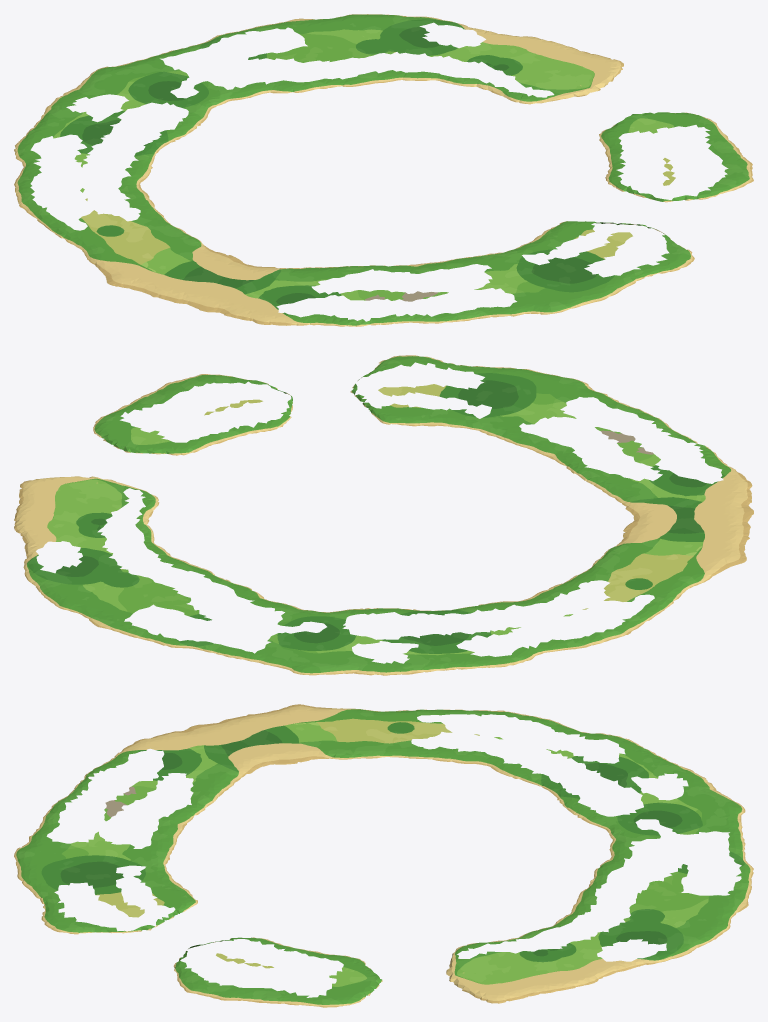
Rendered from Isl-atoll3-Ground.fbx.
The picture shows the model from 3 angles, top to bottom: view 1: azimuth 30°, elevation 25°; view 2: azimuth 150°, elevation 25°; view 3: azimuth 270°, elevation 25°; orthographic projection.
Visible parts, largest first — view 1: Isl-atoll3-Ground-c11, Isl-atoll3-Ground-c22, Isl-atoll3-Ground-c12, Isl-atoll3-Ground-c21, Isl-atoll3-Ground-c20, Isl-atoll3-Ground-c01, Isl-atoll3-Ground-c13, Isl-atoll3-Ground-c10, Isl-atoll3-Ground-c31, Isl-atoll3-Ground-c23, Isl-atoll3-Ground-c02, Isl-atoll3-Ground-c32; view 2: Isl-atoll3-Ground-c11, Isl-atoll3-Ground-c22, Isl-atoll3-Ground-c12, Isl-atoll3-Ground-c21, Isl-atoll3-Ground-c13, Isl-atoll3-Ground-c01, Isl-atoll3-Ground-c23, Isl-atoll3-Ground-c20, Isl-atoll3-Ground-c31, Isl-atoll3-Ground-c02, Isl-atoll3-Ground-c10, Isl-atoll3-Ground-c32; view 3: Isl-atoll3-Ground-c11, Isl-atoll3-Ground-c22, Isl-atoll3-Ground-c12, Isl-atoll3-Ground-c21, Isl-atoll3-Ground-c20, Isl-atoll3-Ground-c31, Isl-atoll3-Ground-c23, Isl-atoll3-Ground-c01, Isl-atoll3-Ground-c13, Isl-atoll3-Ground-c32, Isl-atoll3-Ground-c10, Isl-atoll3-Ground-c02.
Part boxes in pixels (x1,y1,x2,y2): Isl-atoll3-Ground-c11: (109,224,523,326); Isl-atoll3-Ground-c22: (248,16,605,104); Isl-atoll3-Ground-c12: (14,72,262,236); Isl-atoll3-Ground-c21: (484,114,740,283); Isl-atoll3-Ground-c20: (524,246,694,311); Isl-atoll3-Ground-c01: (77,237,213,312); Isl-atoll3-Ground-c13: (47,45,202,106); Isl-atoll3-Ground-c10: (361,283,561,326); Isl-atoll3-Ground-c31: (642,112,753,187); Isl-atoll3-Ground-c23: (197,14,416,48); Isl-atoll3-Ground-c02: (14,171,113,246); Isl-atoll3-Ground-c32: (535,37,623,87); Isl-atoll3-Ground-c11: (496,403,752,581); Isl-atoll3-Ground-c22: (14,476,268,620); Isl-atoll3-Ground-c12: (260,567,650,674); Isl-atoll3-Ground-c21: (122,365,535,455); Isl-atoll3-Ground-c13: (202,636,409,675); Isl-atoll3-Ground-c01: (651,508,753,591); Isl-atoll3-Ground-c23: (30,581,210,650); Isl-atoll3-Ground-c20: (377,355,572,403); Isl-atoll3-Ground-c31: (93,374,221,449); Isl-atoll3-Ground-c02: (555,580,684,651); Isl-atoll3-Ground-c10: (537,378,697,443); Isl-atoll3-Ground-c32: (14,476,81,527); Isl-atoll3-Ground-c11: (82,724,389,855); Isl-atoll3-Ground-c22: (446,853,694,984); Isl-atoll3-Ground-c12: (386,724,694,855); Isl-atoll3-Ground-c21: (82,853,382,983); Isl-atoll3-Ground-c20: (14,853,89,934); Isl-atoll3-Ground-c31: (180,981,379,1007); Isl-atoll3-Ground-c23: (687,853,753,951); Isl-atoll3-Ground-c01: (188,704,389,728); Isl-atoll3-Ground-c13: (687,770,745,855); Isl-atoll3-Ground-c32: (454,980,589,1003); Isl-atoll3-Ground-c10: (14,775,88,855); Isl-atoll3-Ground-c02: (387,709,568,727).
Bounding box in the file's own units: 124 × 0.4898 × 128.
